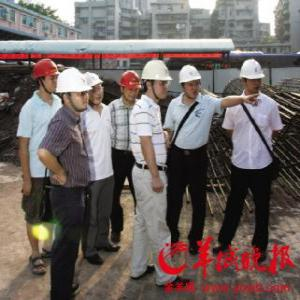red: (32, 58, 61, 97), (119, 69, 143, 104)
white: (55, 66, 92, 115), (141, 59, 171, 103), (238, 57, 267, 97), (81, 69, 106, 109), (179, 64, 204, 100)
